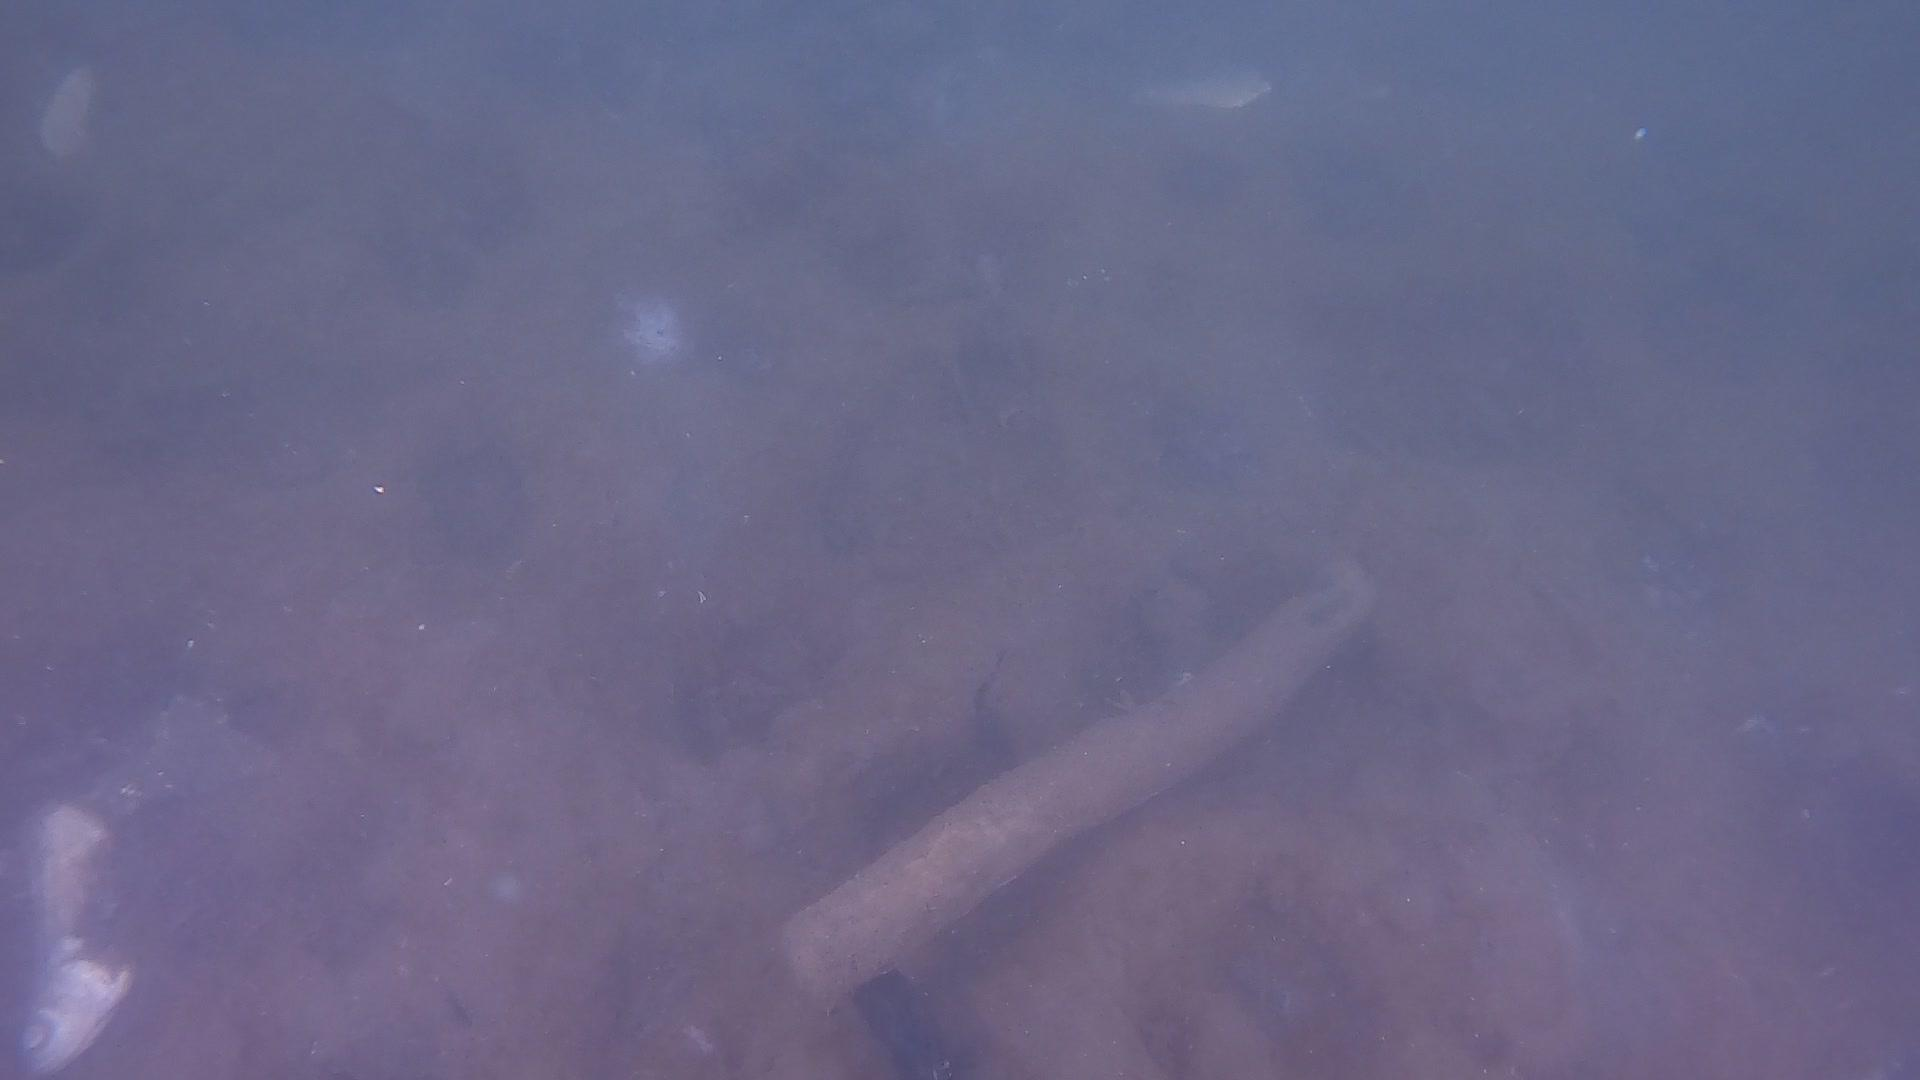wood: (764, 549, 1383, 1015)
